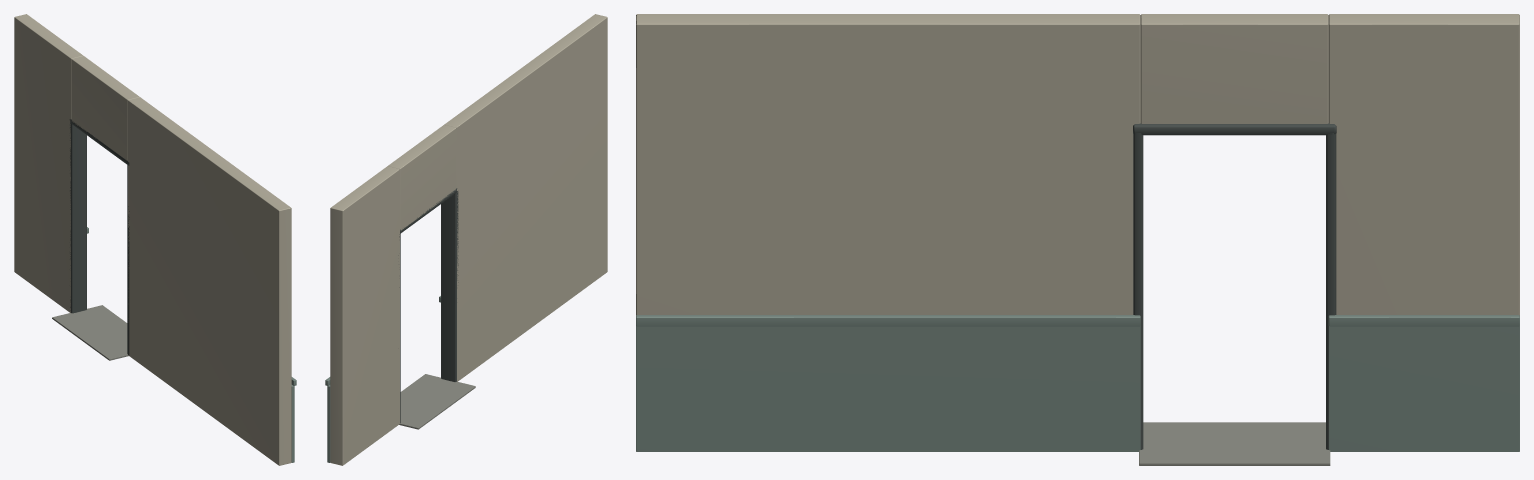
File: Medical_RightPartition62.fbx
3 renders of one model, left to right at view 1: azimuth 30°, elevation 25°; view 2: azimuth 150°, elevation 25°; view 3: azimuth 270°, elevation 25°, orthographic. The views are drawn at different scales.
Parts seen in each view (by area): view 1: Medical_RightPartition62; view 2: Medical_RightPartition62; view 3: Medical_RightPartition62.
Part boxes in pixels (<box>): Medical_RightPartition62: <box>14,14,296,465</box>; Medical_RightPartition62: <box>325,14,607,465</box>; Medical_RightPartition62: <box>636,14,1519,465</box>.
Size of the model in its own units: 62 by 301 by 564.
